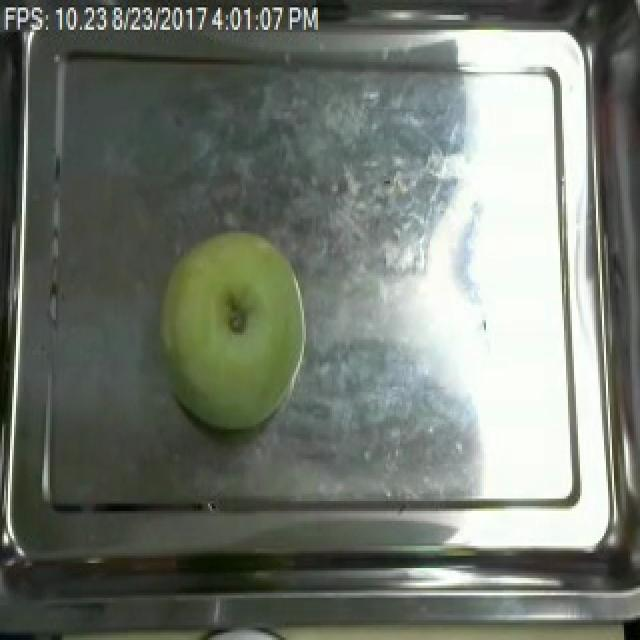50-_ripeness: (152, 222, 320, 432)
